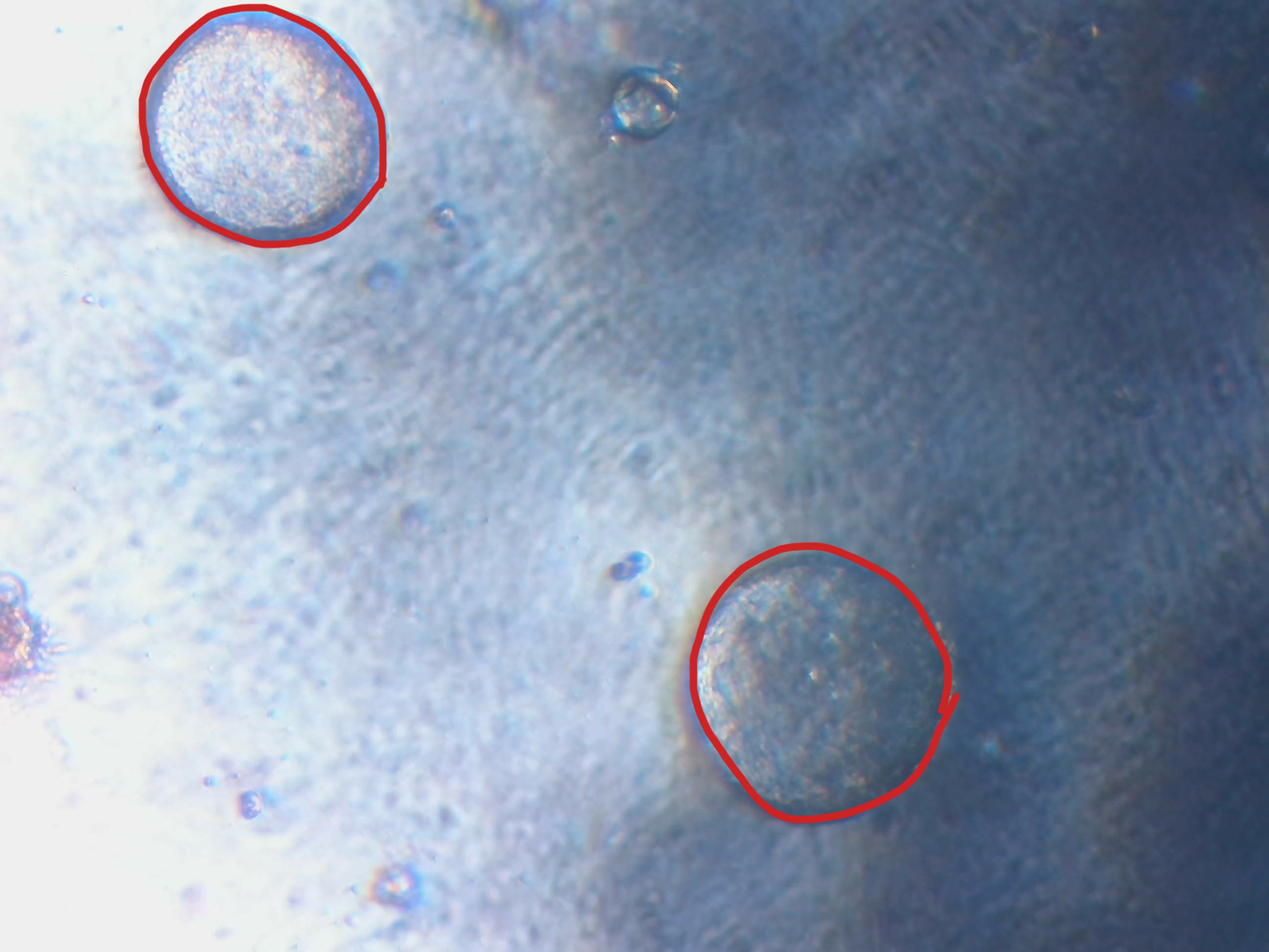organoid: (793, 429, 893, 526), (494, 627, 565, 674), (786, 526, 836, 578), (746, 502, 778, 538)
